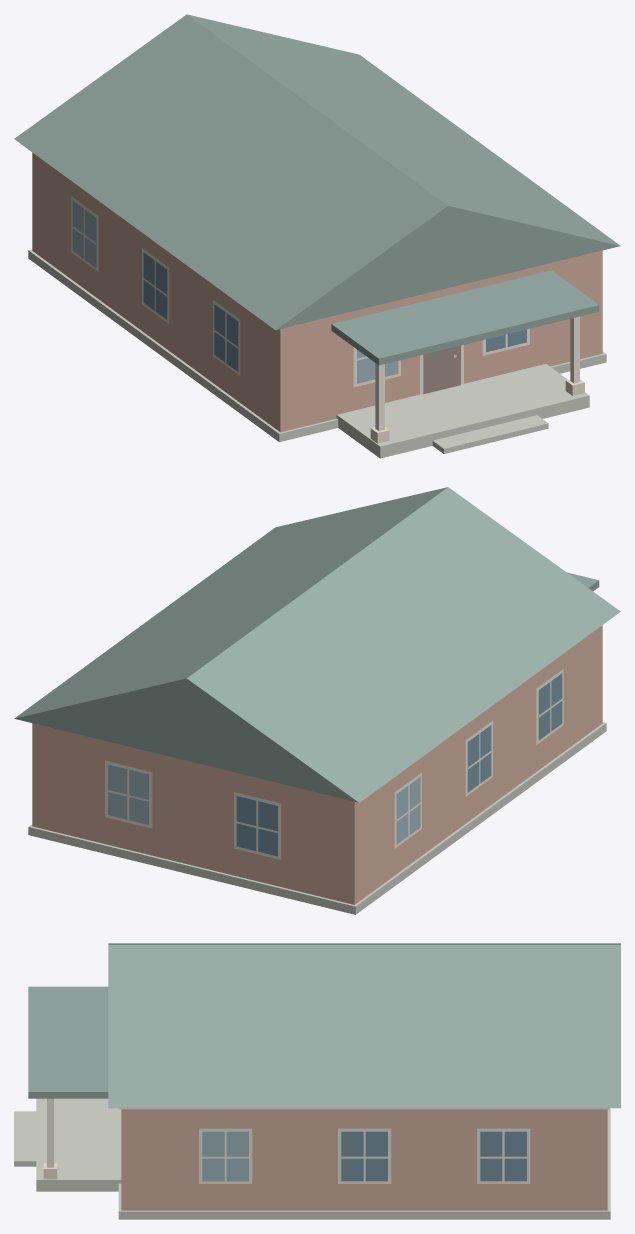
The model's file is house-porch-clay.glb.
3 views of the same model, one above another, from view 1: azimuth 30°, elevation 25°; view 2: azimuth 150°, elevation 25°; view 3: azimuth 270°, elevation 25° (orthographic).
Parts seen in each view (by area): view 1: house-porch-clay; view 2: house-porch-clay; view 3: house-porch-clay.
Part boxes in pixels (bbox=[...]): house-porch-clay: bbox=[14, 14, 620, 458]; house-porch-clay: bbox=[14, 487, 620, 914]; house-porch-clay: bbox=[14, 943, 620, 1219].
Size of the model in its own units: 9.65 by 5.35 by 14.98.
